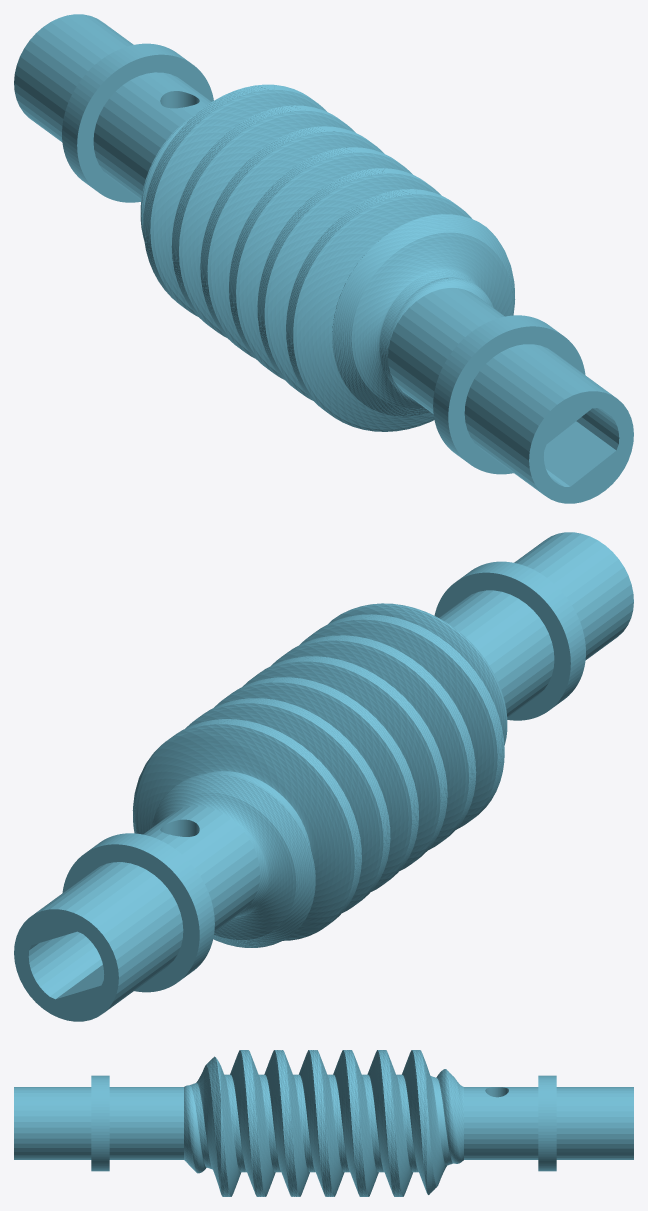
File: printed_worm_demo.glb
The picture shows the model from 3 angles, top to bottom: view 1: azimuth 30°, elevation 25°; view 2: azimuth 150°, elevation 25°; view 3: azimuth 270°, elevation 25°; orthographic projection. The views are drawn at different scales.
Visible parts, largest first — view 1: journalled_worm; view 2: journalled_worm; view 3: journalled_worm.
Part boxes in pixels (x1=…): journalled_worm: x1=14, y1=14, x2=633, y2=503; journalled_worm: x1=14, y1=532, x2=633, y2=1021; journalled_worm: x1=14, y1=1050, x2=633, y2=1196.
Bounding box in the file's own units: 16.12 × 16.12 × 68.
